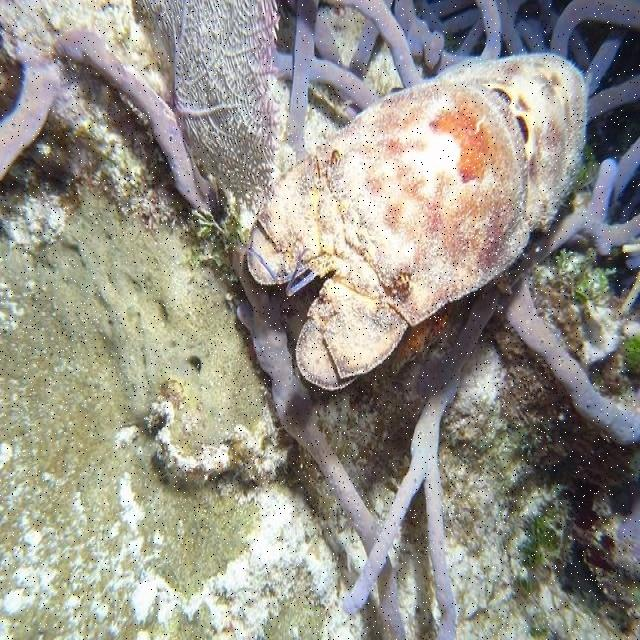reefs: (0, 0, 639, 639), (246, 51, 589, 392)
